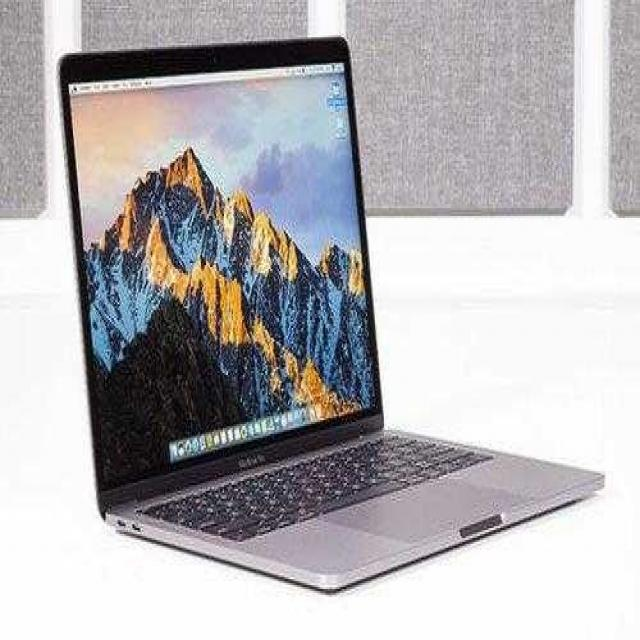laptop: (55, 39, 618, 584)
